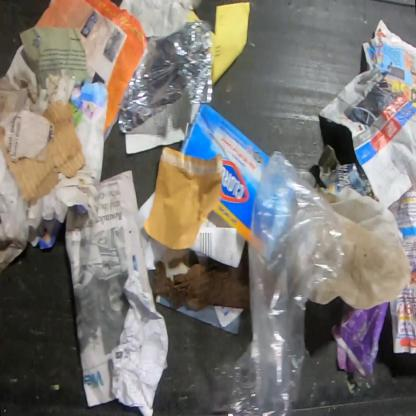cardboard: (0, 100, 86, 208)
soft_plastic: (208, 150, 340, 415), (308, 184, 411, 310), (117, 22, 212, 133)
